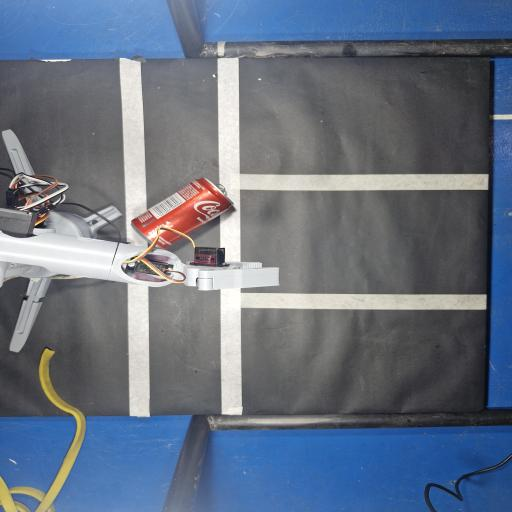lata: (132, 178, 233, 250)
